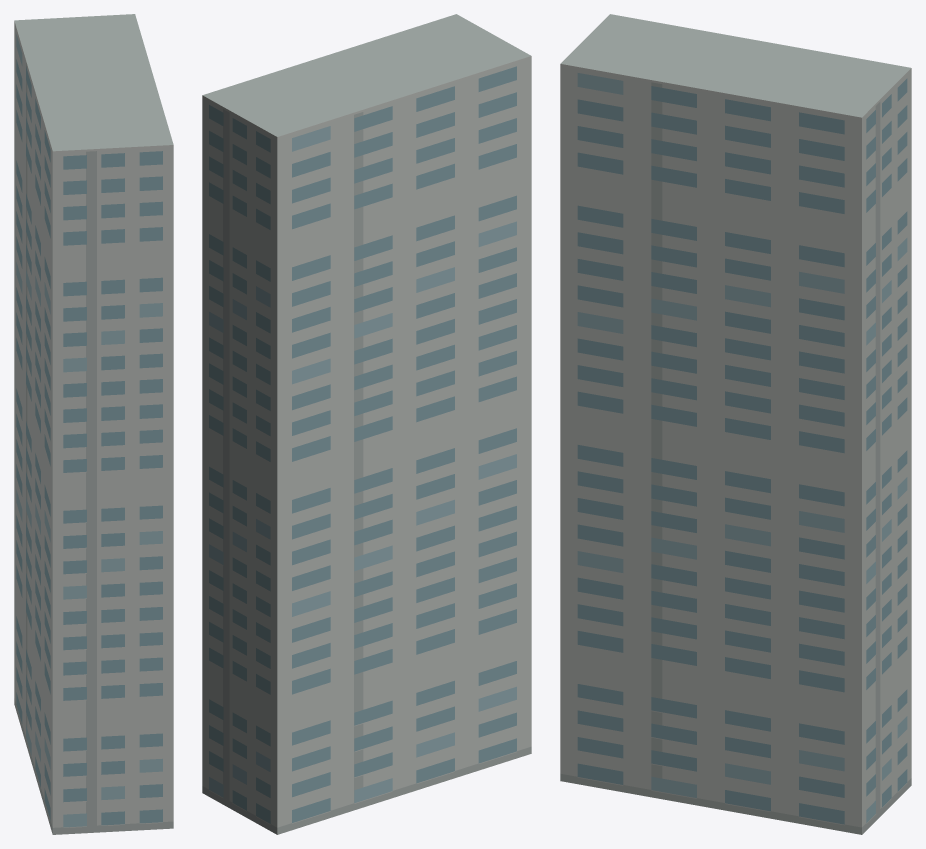
File: residential-c93f40f8-3464-4b30-bec7-a71bdbad5bbd.glb
3 views of the same model, side by side, from view 1: azimuth 30°, elevation 25°; view 2: azimuth 150°, elevation 25°; view 3: azimuth 270°, elevation 25° (orthographic). The views are drawn at different scales.
Parts seen in each view (by area): view 1: residential-c93f40f8-3464-4b30-bec7-a71bdbad5bbd.tmp; view 2: residential-c93f40f8-3464-4b30-bec7-a71bdbad5bbd.tmp; view 3: residential-c93f40f8-3464-4b30-bec7-a71bdbad5bbd.tmp.
Boxes of the visible parts, bbox=[...] form: residential-c93f40f8-3464-4b30-bec7-a71bdbad5bbd.tmp: bbox=[14, 14, 173, 834]; residential-c93f40f8-3464-4b30-bec7-a71bdbad5bbd.tmp: bbox=[202, 14, 531, 834]; residential-c93f40f8-3464-4b30-bec7-a71bdbad5bbd.tmp: bbox=[560, 14, 911, 834].
Size of the model in its own units: 24.18 by 78 by 34.64.
